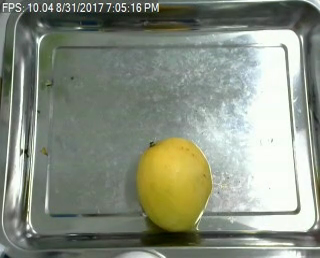Mango: (134, 139, 211, 230)
